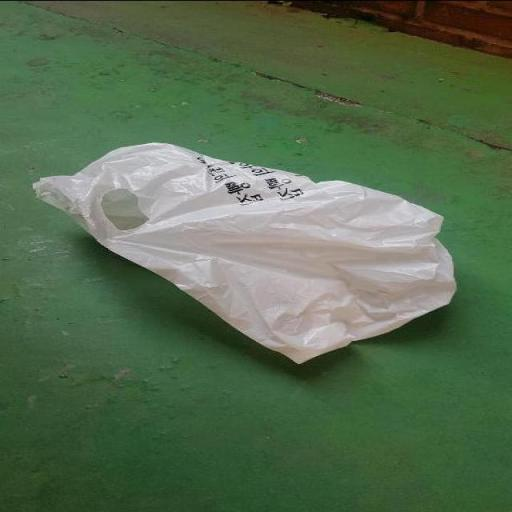plastic-bag: (28, 142, 460, 364)
